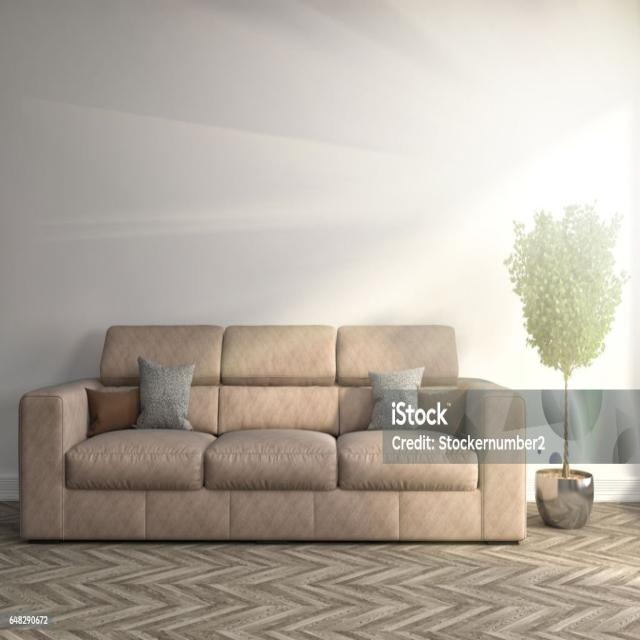back_cushion: (101, 326, 458, 436)
base: (21, 489, 526, 541)
left_arm: (467, 387, 526, 538)
right_arm: (20, 381, 89, 538)
seat_cushion: (66, 430, 478, 490)
stallion-sofa1: (19, 325, 526, 541)
